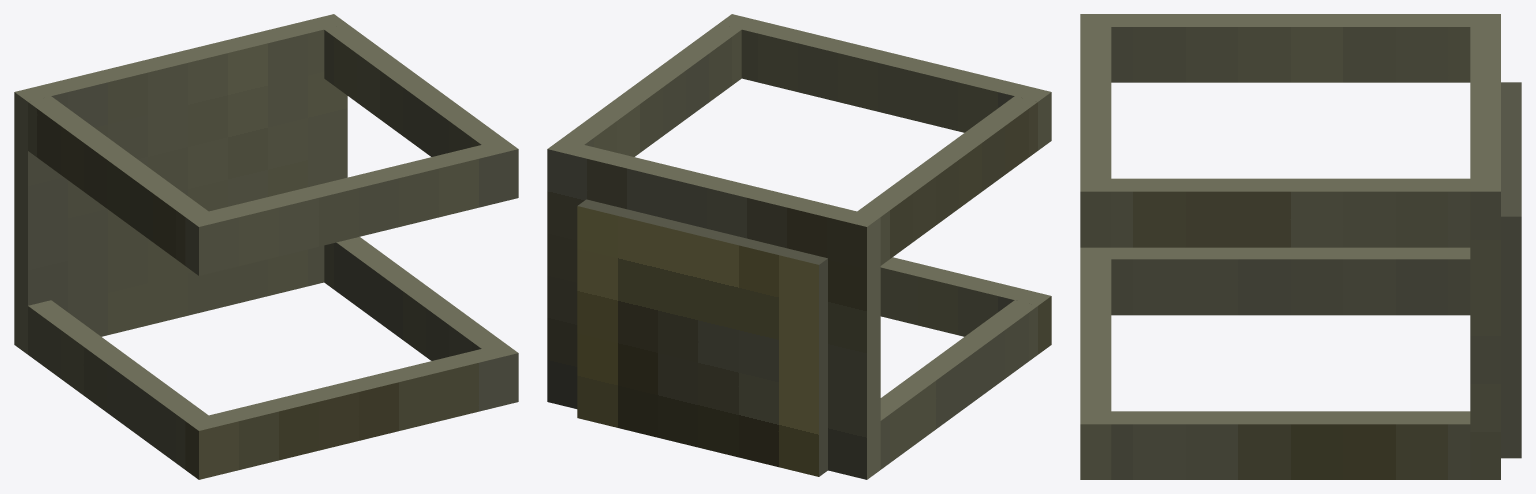
File: defender_mobilized_p_r.obj
3 views of the same model, side by side, from view 1: azimuth 30°, elevation 25°; view 2: azimuth 150°, elevation 25°; view 3: azimuth 270°, elevation 25° (orthographic). The views are drawn at different scales.
Visible parts, largest first — view 1: cube; view 2: cube; view 3: cube.
Boxes of the visible parts, x1=… form: cube: x1=14, y1=14, x2=518, y2=479; cube: x1=547, y1=14, x2=1051, y2=479; cube: x1=1080, y1=14, x2=1521, y2=479.
Bounding box in the file's own units: 0.2562 × 0.1938 × 0.2687.
